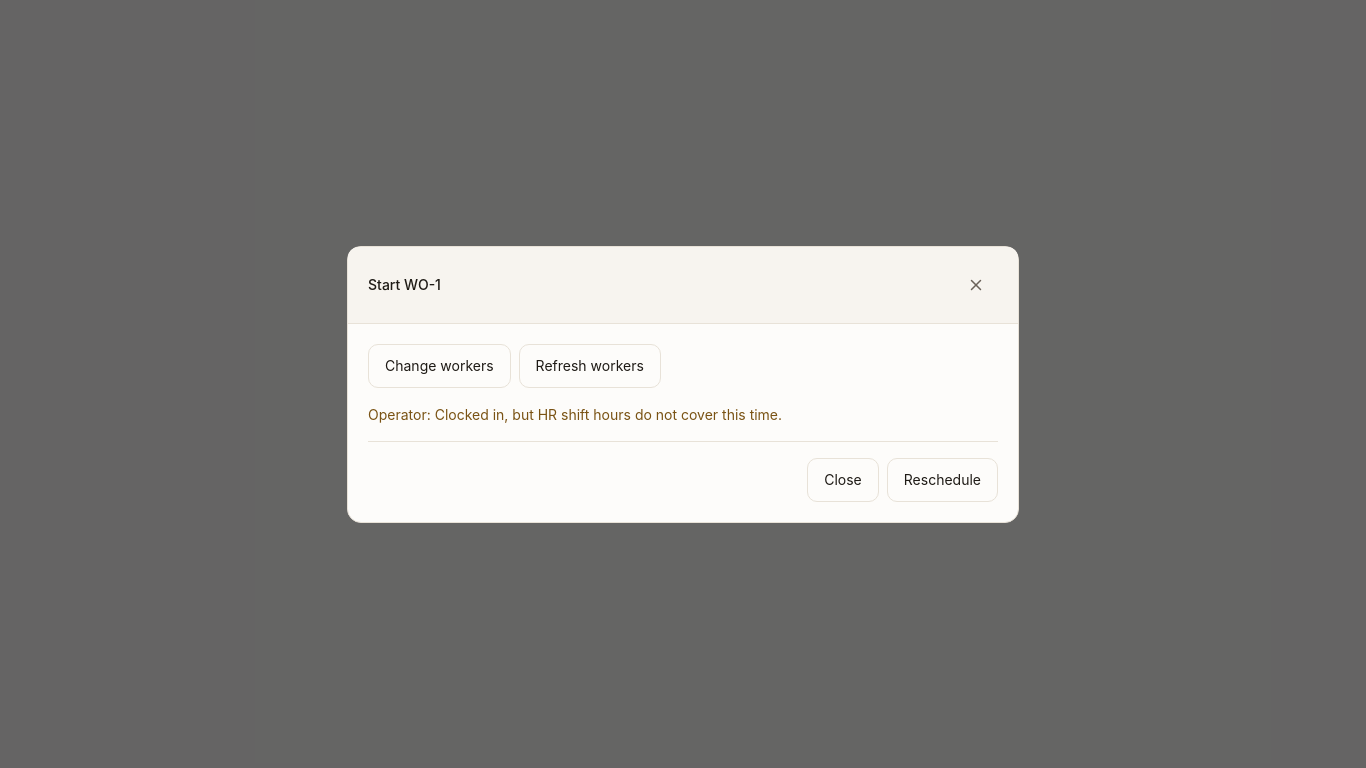
it: offers worker recovery and refresh without rescheduling after a shift blocker
What coordinates should you click on to do the following:
click the button "Refresh workers"
I would click on:
 (590, 366)
Its box is [519,344,661,388].
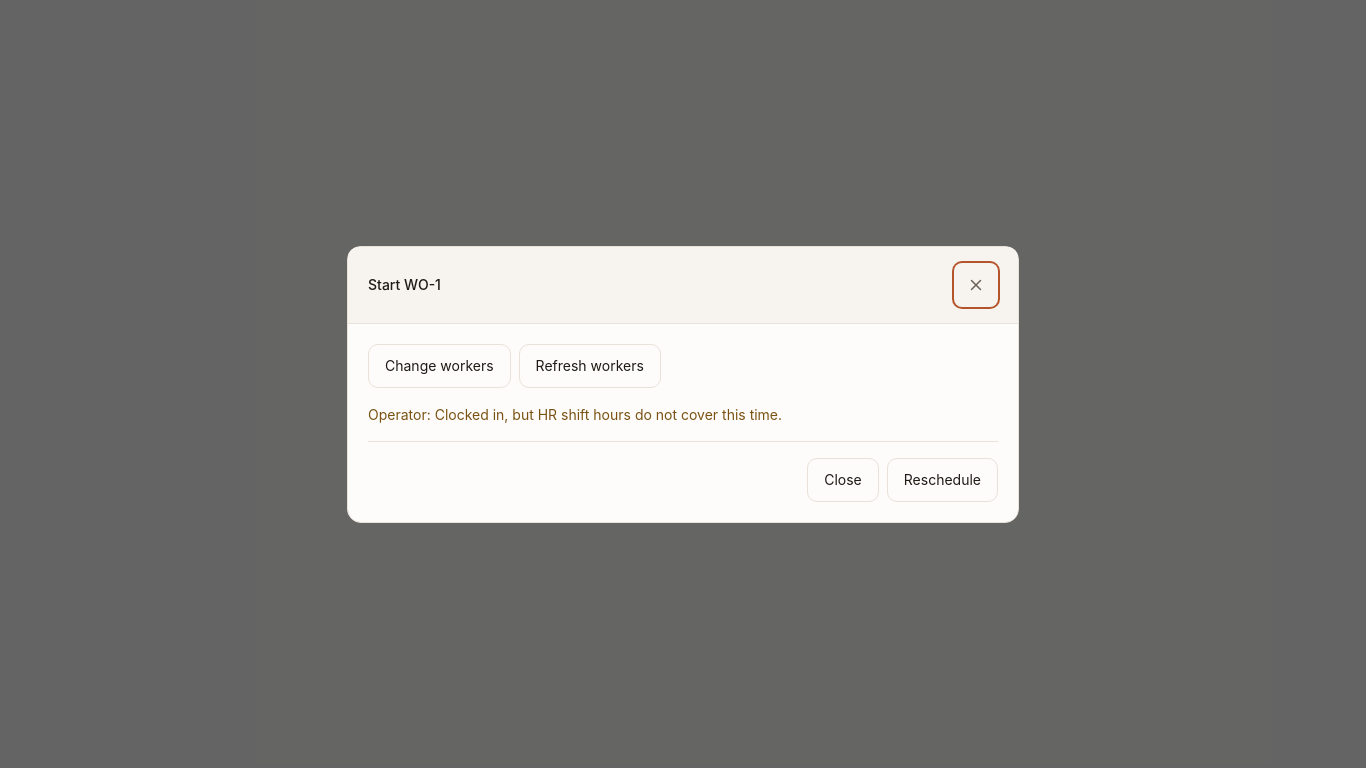
What coordinates should you click on to do the following:
click the button "Change workers"
I would click on:
 (439, 366)
Its box is [368,344,511,388].
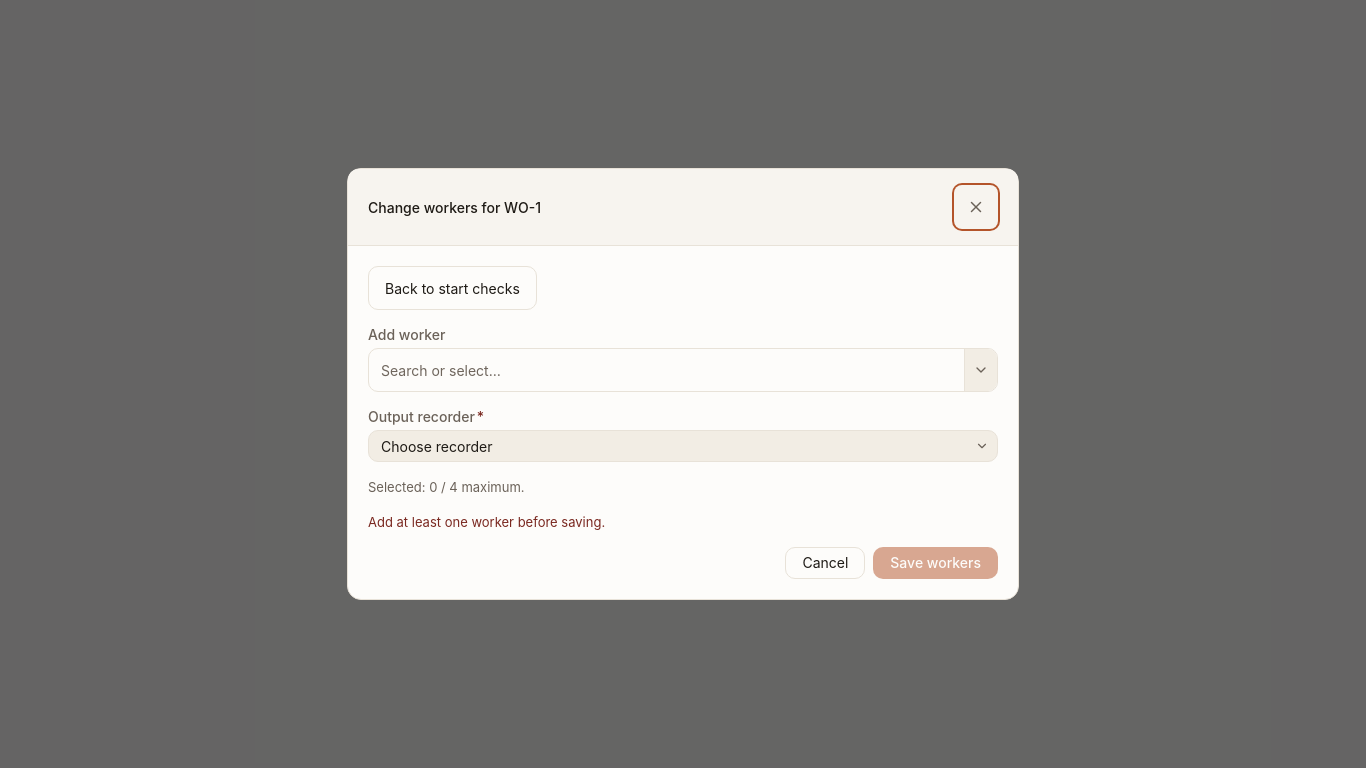
Expected: the button "Back to start checks" is shown, [368,266,537,310]
Expected: the dropdown labelled "Output recorder" is shown, [369,431,997,461]
